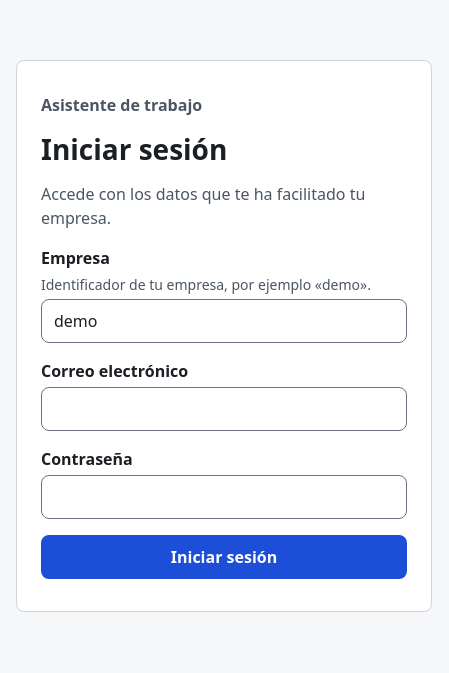
Test: LoginPage › announces invalid credentials and stays on the login page
Check: the heading "Iniciar sesión" is shown, box top-left (41, 130), bottom-right (227, 168)
Type "admin@demo.test" into the field labelled "Correo electrónico" at (224, 409), box top-left (41, 387), bottom-right (407, 431)
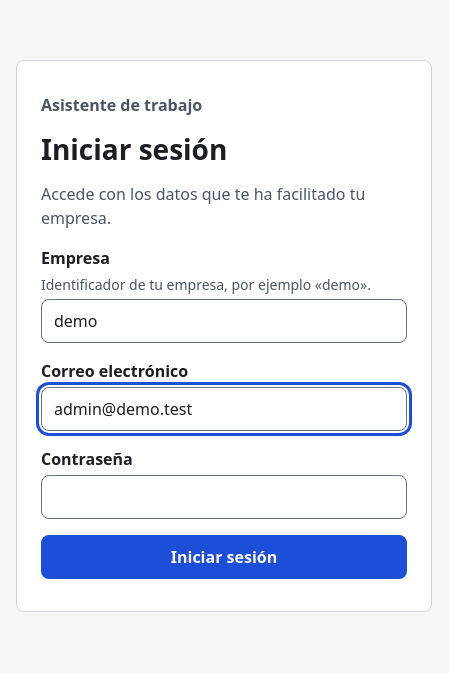
Type "wrong" into the password field labelled "Contraseña" at (224, 497), box top-left (41, 475), bottom-right (407, 519)
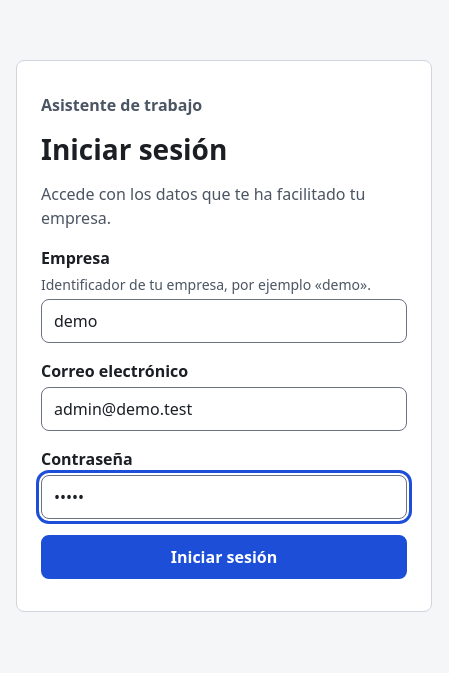
Click the button "Iniciar sesión" at (224, 557), box top-left (41, 535), bottom-right (407, 579)
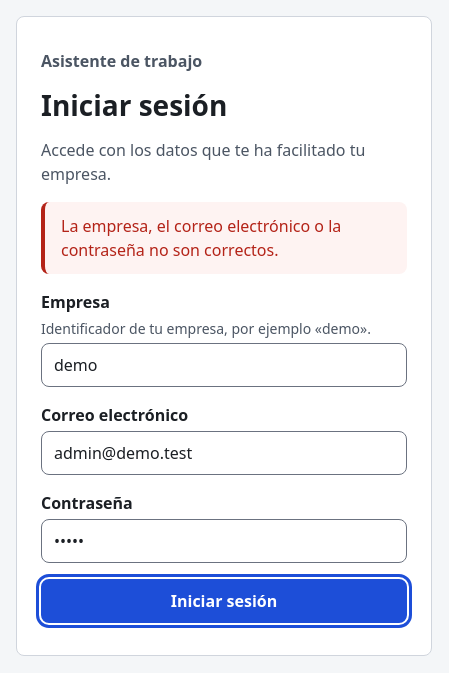
Check: the message reads "La empresa, el correo electrónico o la contraseña no son correctos.", box top-left (61, 215), bottom-right (341, 261)
